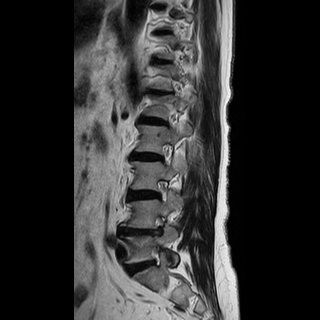LFS0: (149, 173, 175, 208), (155, 135, 176, 170), (147, 239, 167, 273)
LFS1: (147, 211, 171, 241)
